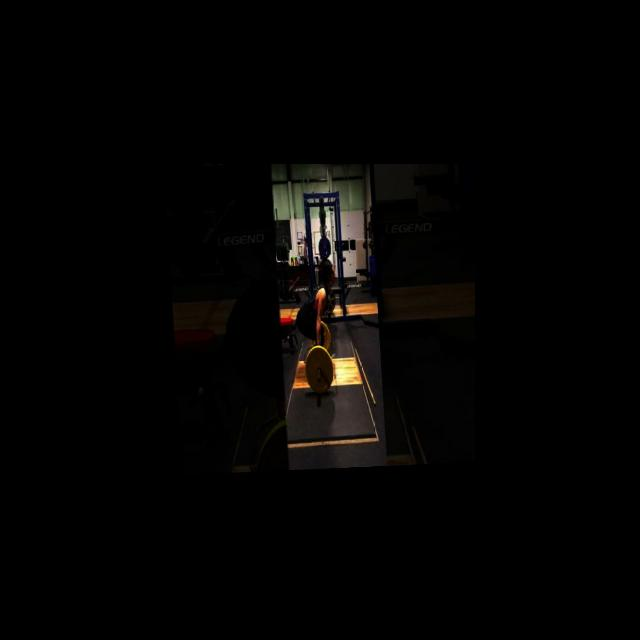barbell: (299, 346, 334, 399)
